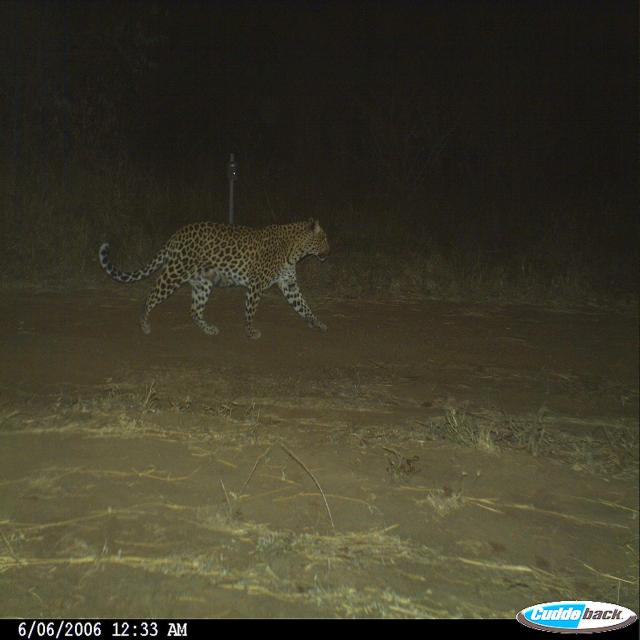Leopard: (84, 212, 350, 352)
